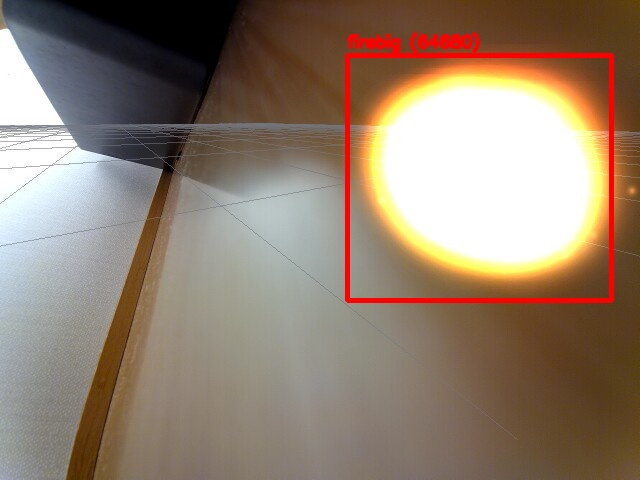firebig: (347, 55, 611, 300)
